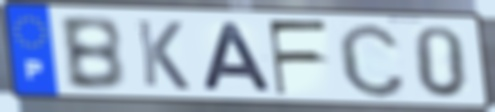0: (410, 24, 471, 99)
A: (197, 20, 276, 93)
B: (56, 14, 129, 94)
C: (334, 20, 409, 101)
F: (265, 18, 331, 98)
K: (133, 17, 193, 93)
